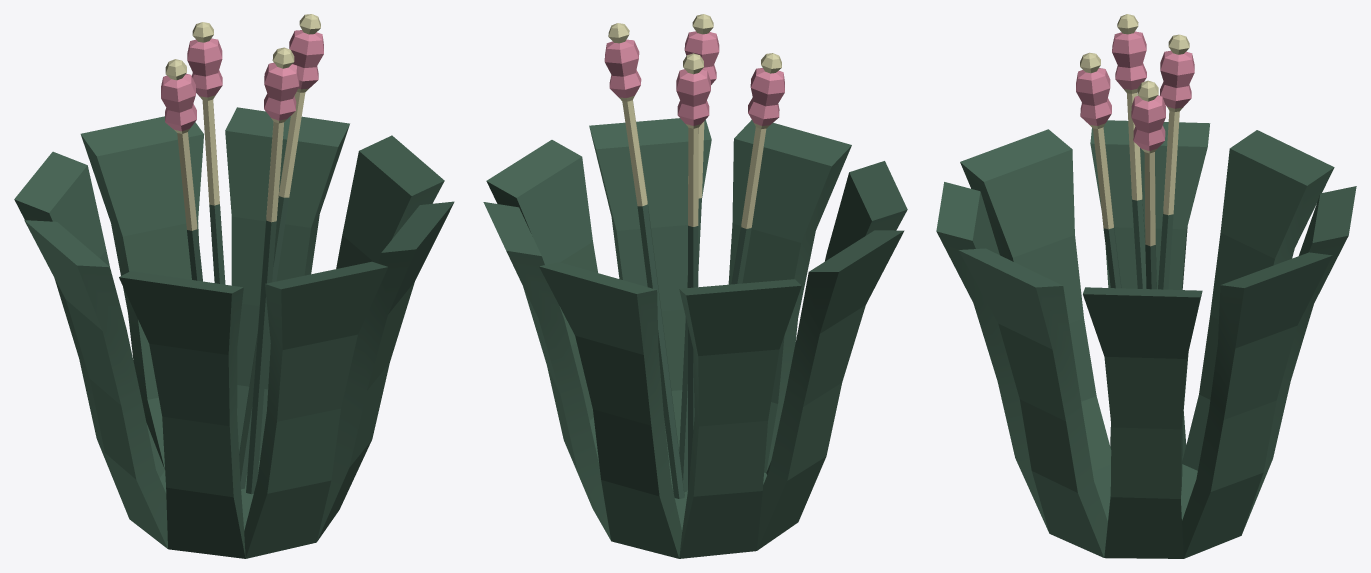
Rendered from Plant_03.fbx.
3 views of the same model, side by side, from view 1: azimuth 30°, elevation 25°; view 2: azimuth 150°, elevation 25°; view 3: azimuth 270°, elevation 25° (orthographic).
Parts seen in each view (by area): view 1: polySurface42, polySurface59; view 2: polySurface42, polySurface59; view 3: polySurface42, polySurface59.
Part boxes in pixels (bbox=[...]): polySurface42: bbox=[14, 107, 454, 558]; polySurface59: bbox=[161, 14, 323, 494]; polySurface42: bbox=[483, 118, 907, 558]; polySurface59: bbox=[604, 14, 784, 498]; polySurface42: bbox=[936, 120, 1356, 558]; polySurface59: bbox=[1076, 14, 1194, 289].
Bounding box in the file's own units: 5.62 × 7.03 × 5.62.
